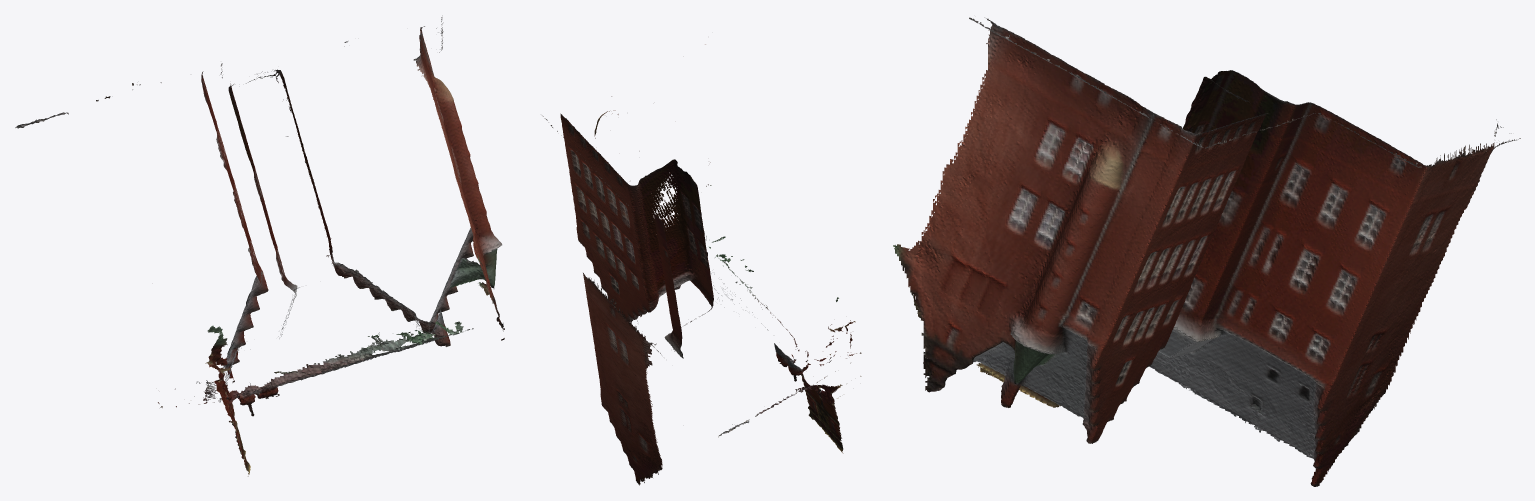
Rendered from dtu_24_compressed.glb.
3 renders of one model, left to right at view 1: azimuth 30°, elevation 25°; view 2: azimuth 150°, elevation 25°; view 3: azimuth 270°, elevation 25°, orthographic. The views are drawn at different scales.
Parts seen in each view (by area): view 1: test_24; view 2: test_24; view 3: test_24.
Boxes of the visible parts, bbox=[...] form: test_24: bbox=[15, 15, 504, 476]; test_24: bbox=[542, 44, 861, 485]; test_24: bbox=[893, 17, 1520, 486].
Bounding box in the file's own units: 306 × 378 × 420.
